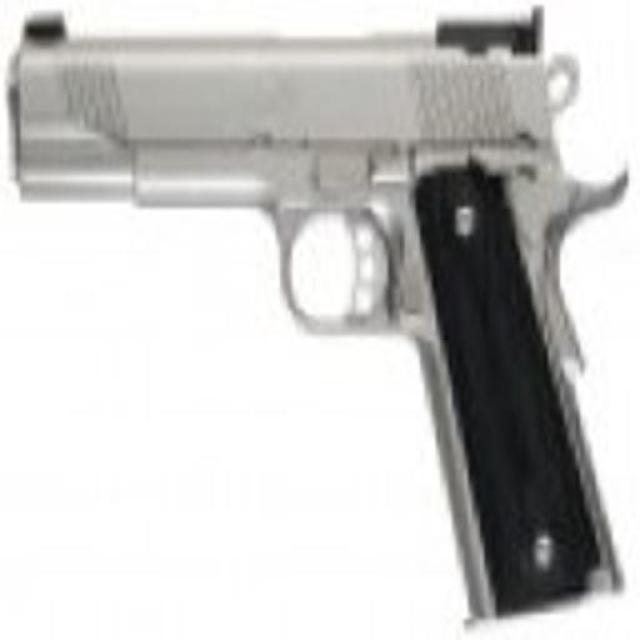pistol: (11, 5, 623, 629)
